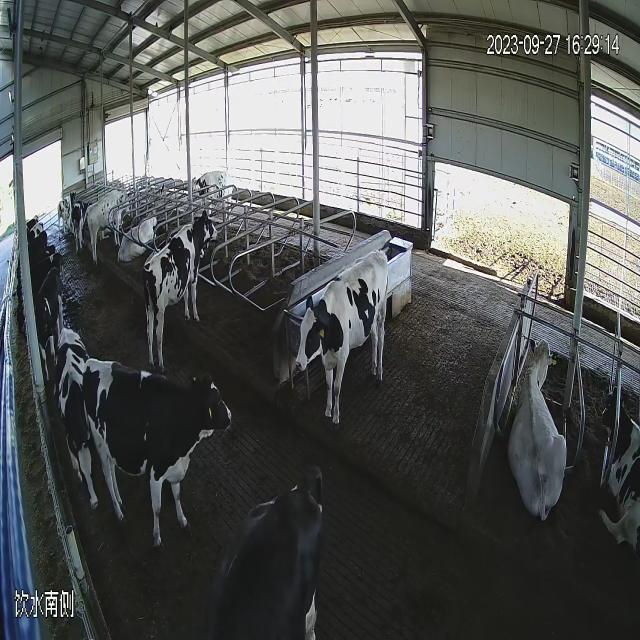feeding: (10, 247, 64, 341)
lying down: (503, 330, 572, 530), (112, 208, 160, 270)
standing: (77, 350, 239, 562), (290, 243, 390, 441), (136, 194, 226, 374), (78, 180, 134, 272), (50, 182, 86, 246), (192, 171, 236, 216)
